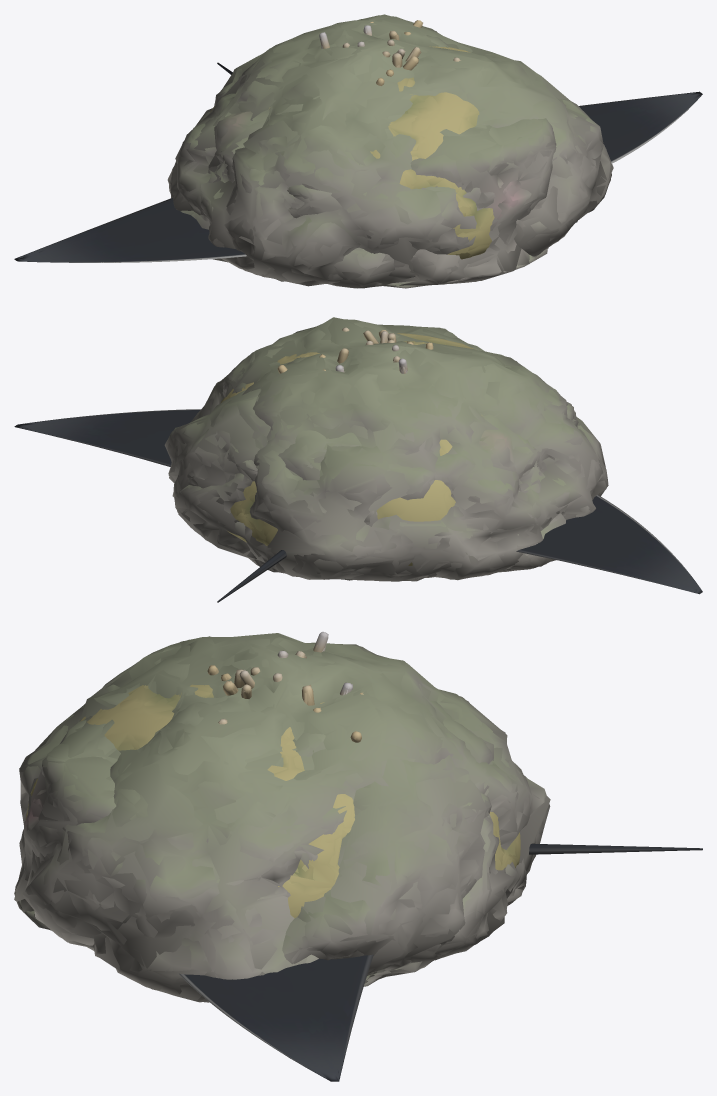
The model's file is ocean.glb.
3 renders of one model, top to bottom at view 1: azimuth 30°, elevation 25°; view 2: azimuth 150°, elevation 25°; view 3: azimuth 270°, elevation 25°, orthographic. The views are drawn at different scales.
Visible parts, largest first — view 1: rock_a_0, rock_a_2, rock_a_1, rock_b_2, rock_b_0, manta_0, manta_1, rock_b_1, brain_0, manta_2, brain_2, brain_1 (+1 smaller); view 2: rock_a_2, rock_a_0, rock_a_1, manta_0, manta_1, rock_b_0, rock_b_2, rock_b_1, manta_2, brain_0, brain_2, brain_1 (+1 smaller); view 3: rock_a_0, rock_a_2, rock_a_1, rock_b_2, rock_b_0, rock_b_1, manta_0, manta_1, brain_0, brain_2, manta_2, brain_1 (+1 smaller).
Part boxes in pixels (bbox=[...]): rock_a_0: bbox=[169, 15, 610, 286]; rock_a_2: bbox=[167, 14, 613, 283]; rock_a_1: bbox=[169, 16, 611, 285]; rock_b_2: bbox=[181, 28, 556, 288]; rock_b_0: bbox=[180, 26, 556, 288]; manta_0: bbox=[14, 63, 700, 262]; manta_1: bbox=[20, 63, 702, 262]; rock_b_1: bbox=[181, 36, 555, 288]; brain_0: bbox=[210, 46, 492, 257]; manta_2: bbox=[18, 62, 700, 262]; brain_2: bbox=[269, 46, 494, 259]; brain_1: bbox=[374, 47, 493, 255]; rock_a_2: bbox=[177, 317, 608, 581]; rock_a_0: bbox=[174, 319, 607, 580]; rock_a_1: bbox=[175, 319, 606, 581]; manta_0: bbox=[14, 409, 702, 601]; manta_1: bbox=[15, 409, 701, 602]; rock_b_0: bbox=[167, 325, 573, 580]; rock_b_2: bbox=[164, 324, 577, 581]; rock_b_1: bbox=[165, 324, 574, 581]; manta_2: bbox=[25, 409, 696, 601]; brain_0: bbox=[221, 333, 465, 545]; brain_2: bbox=[220, 335, 482, 565]; brain_1: bbox=[227, 334, 474, 545]; rock_a_0: bbox=[20, 636, 550, 1002]; rock_a_2: bbox=[19, 633, 550, 1002]; rock_a_1: bbox=[20, 637, 549, 1001]; rock_b_2: bbox=[14, 703, 493, 977]; rock_b_0: bbox=[15, 701, 491, 986]; rock_b_1: bbox=[14, 708, 493, 983]; manta_0: bbox=[178, 843, 702, 1081]; manta_1: bbox=[191, 844, 702, 1081]; brain_0: bbox=[25, 685, 520, 917]; brain_2: bbox=[27, 684, 518, 887]; manta_2: bbox=[182, 844, 702, 1073]; brain_1: bbox=[26, 685, 520, 918].
Bounding box in the file's own units: 4.2 × 1.11 × 2.79.
